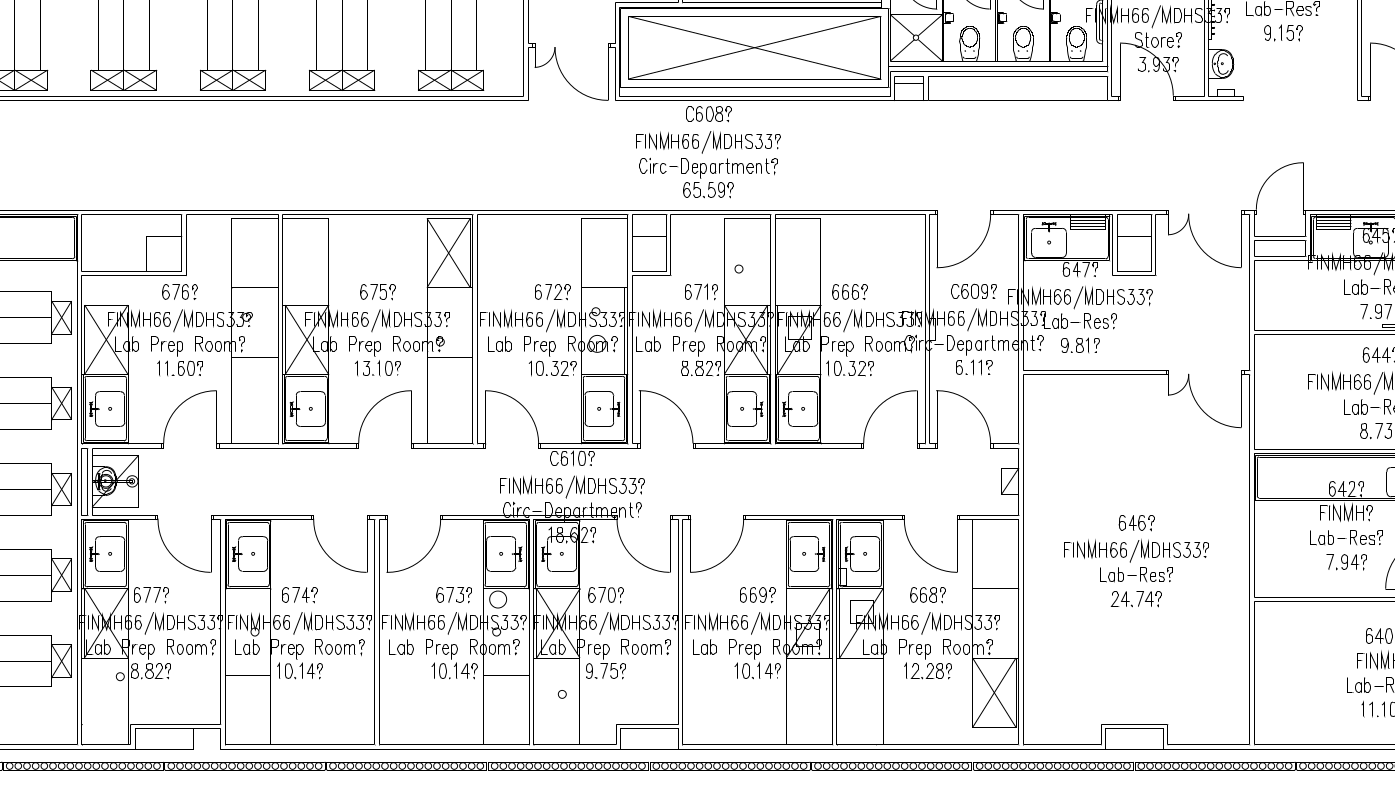door: (480, 382, 542, 449), (353, 381, 415, 448), (157, 383, 219, 450), (933, 210, 995, 276), (933, 385, 995, 451), (858, 385, 920, 451), (899, 509, 961, 575), (637, 386, 699, 452), (687, 513, 749, 579), (612, 514, 674, 580), (152, 513, 214, 579), (309, 515, 371, 581), (382, 512, 444, 578), (554, 39, 611, 105), (1117, 38, 1174, 104), (1251, 149, 1308, 215), (1187, 211, 1244, 277), (1187, 368, 1244, 434), (532, 40, 558, 79)
